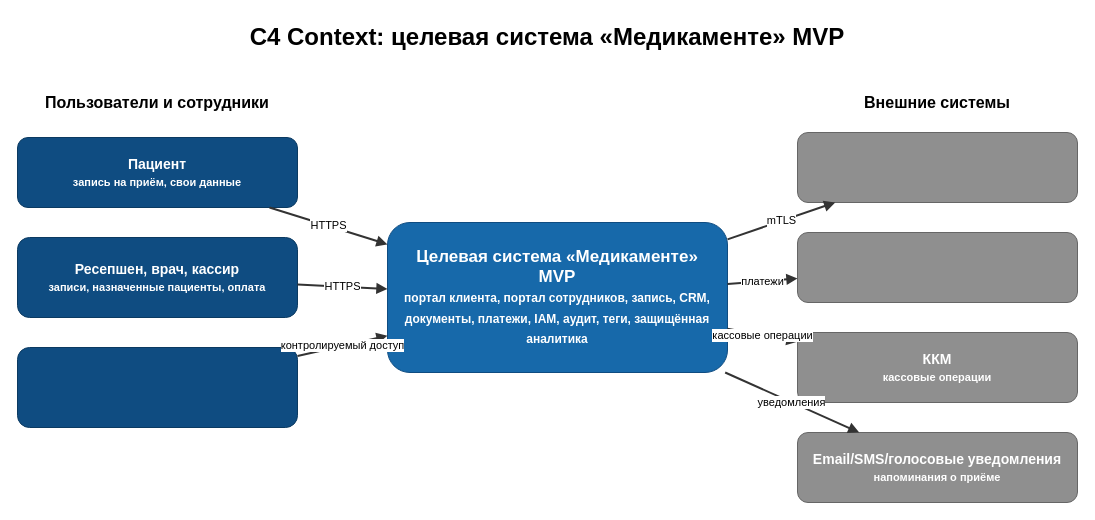
Some shapes in this 1095 by 520 pixel diagram are drawn without their labels. The shapes that lost their labels are listed below. From the top down, each one's box as (x1, y1, x2, y2) in pixels, then its label:
(796, 132, 1078, 202): Лаборатория анализов mTLS, минимальный контракт
(796, 232, 1078, 302): 1С:Бухгалтерия сверка платежей и учёт
(16, 346, 298, 428): Бухгалтерия, аналитик, IT отчётность, ANALYTICS_SAFE, эксплуатация
